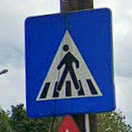trecere_pietoni: (15, 6, 118, 118)
